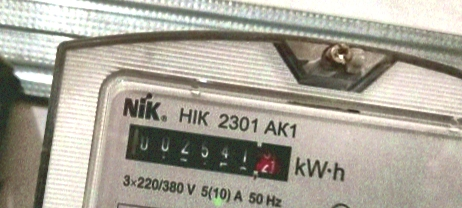0: (136, 130, 152, 153), (157, 131, 172, 154)
1: (237, 141, 251, 166)
2: (177, 133, 194, 157)
4: (218, 138, 232, 161)
5: (196, 136, 213, 161)
6: (258, 160, 271, 174)
screen: (111, 111, 306, 192)
